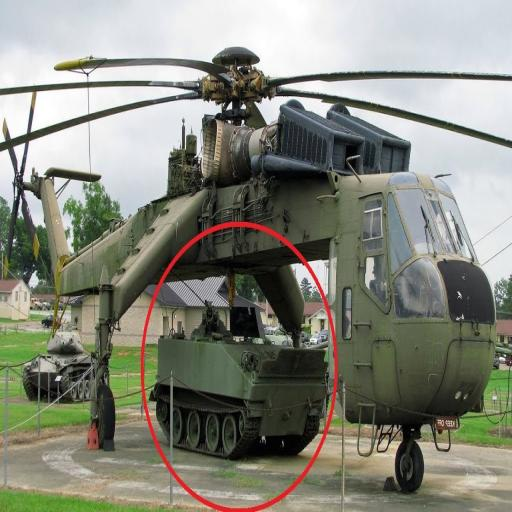helicopter: (6, 28, 512, 433)
